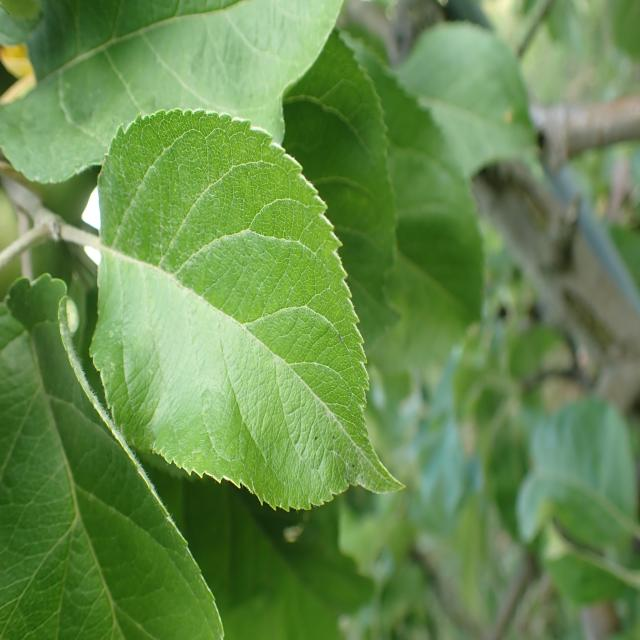healthy: (89, 106, 408, 514), (0, 272, 225, 640), (0, 0, 347, 183), (281, 28, 399, 350)
